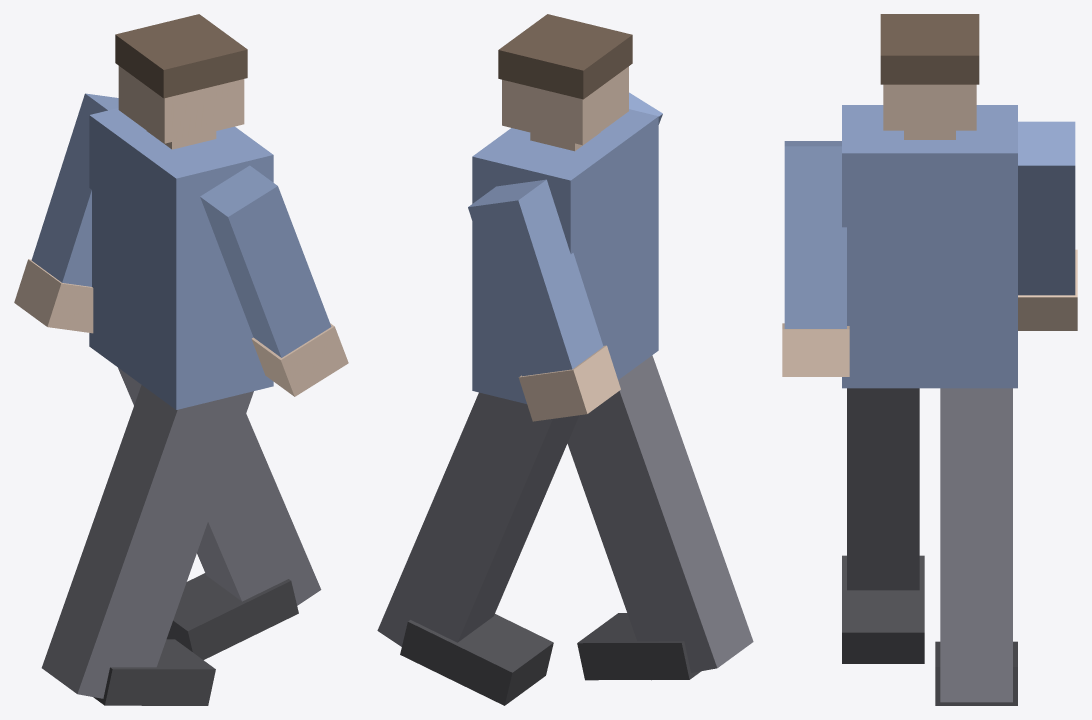
The model's file is SM_WbPed2B_0.glb.
3 views of the same model, side by side, from view 1: azimuth 30°, elevation 25°; view 2: azimuth 150°, elevation 25°; view 3: azimuth 270°, elevation 25° (orthographic).
Parts seen in each view (by area): view 1: SM_WbPed2B_0; view 2: SM_WbPed2B_0; view 3: SM_WbPed2B_0.
Boxes of the visible parts, x1=… form: SM_WbPed2B_0: x1=14, y1=14, x2=348, y2=705; SM_WbPed2B_0: x1=377, y1=14, x2=753, y2=705; SM_WbPed2B_0: x1=782, y1=14, x2=1077, y2=705.
Size of the model in its own units: 0.8522 by 1.76 by 0.741.
